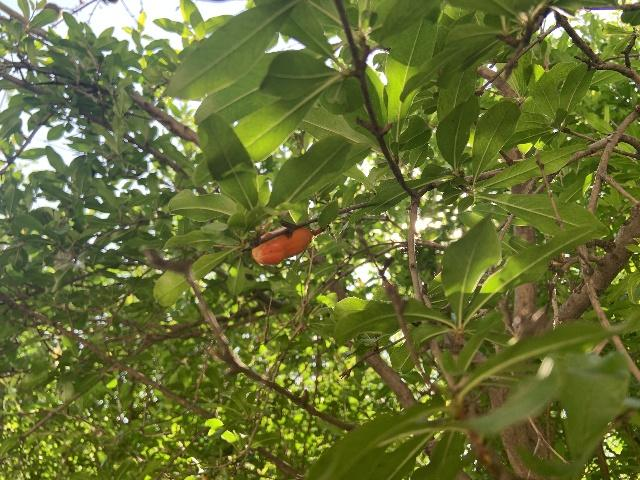bud: (252, 226, 312, 265)
